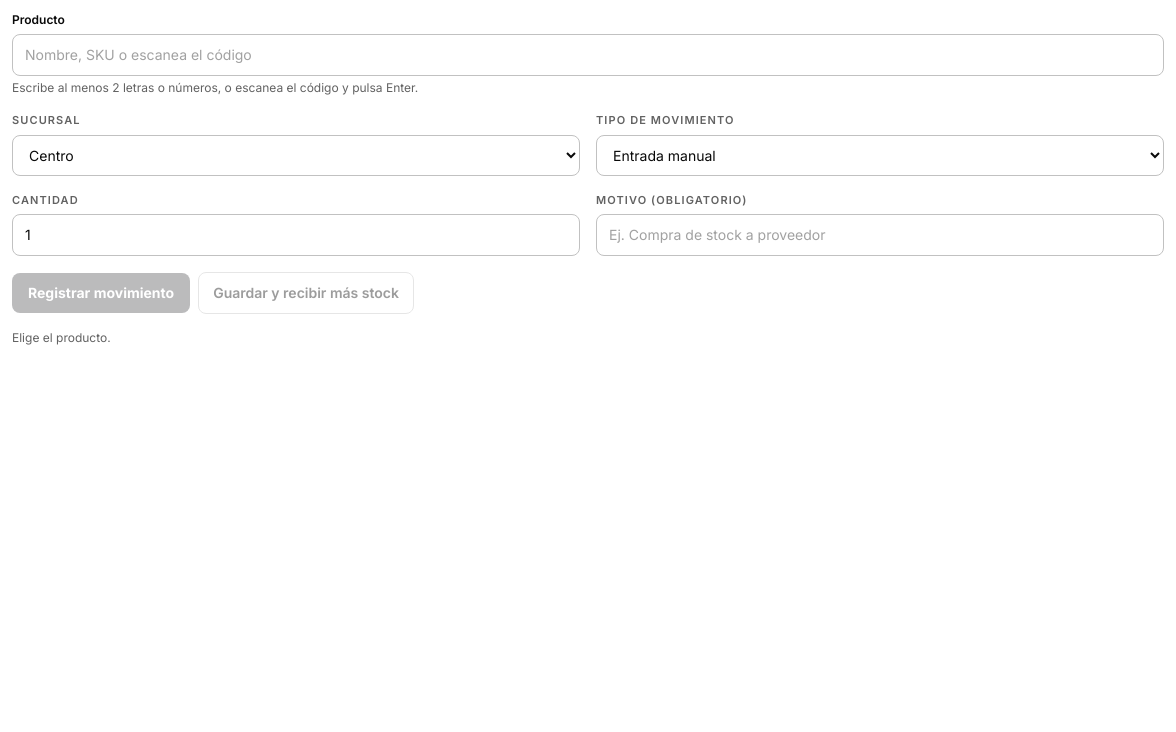
Test case: registers the movement for the picked product and branch
In the dropdown labelled "Producto": x=588, y=55 x1=12 y1=34 x2=1164 y2=76, type "BD-3"
Press Enter in the dropdown labelled "Producto", box x1=12 y1=34 x2=1164 y2=76
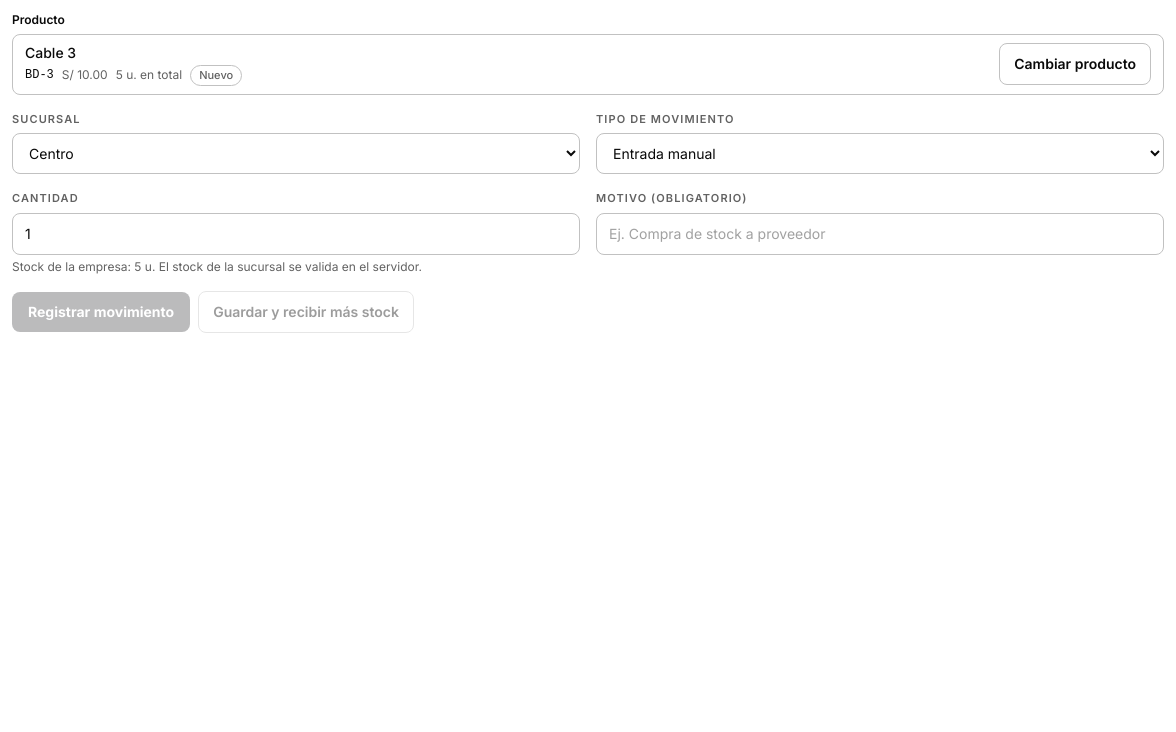
Select "Norte" in the dropdown labelled "Sucursal": x=296, y=154 x1=12 y1=133 x2=580 y2=174
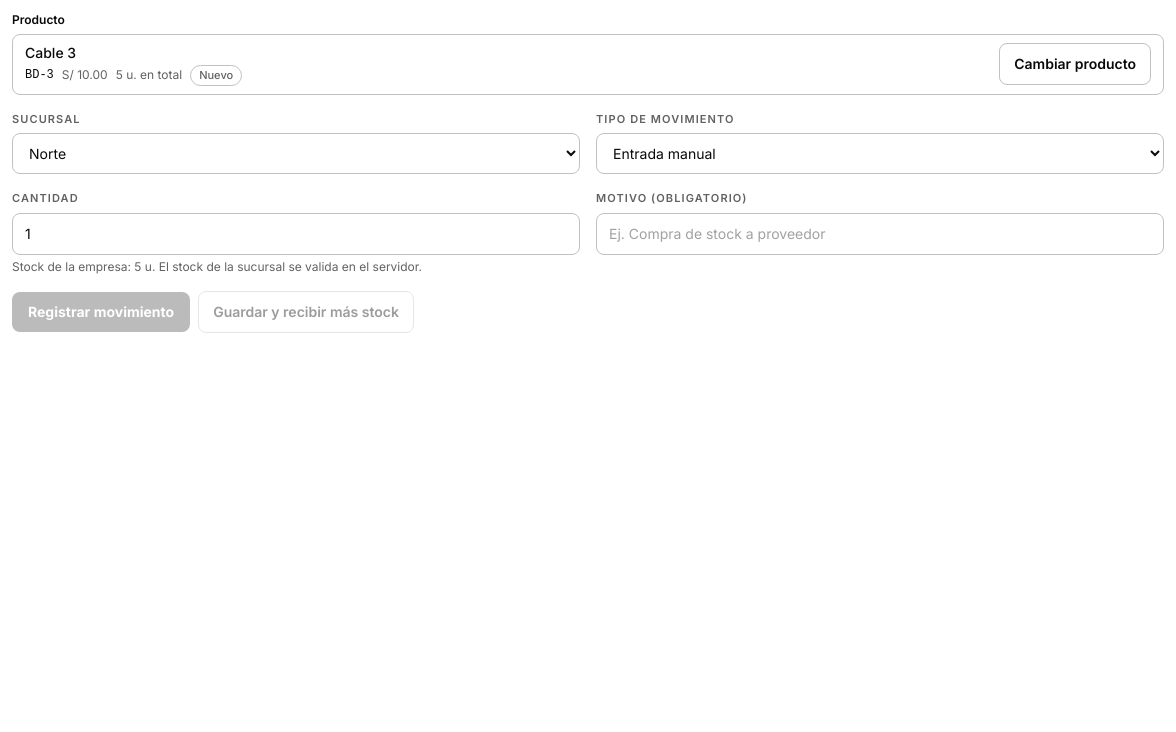
Select "Entrada por compra" in the dropdown labelled "Tipo de movimiento": x=880, y=154 x1=596 y1=133 x2=1164 y2=174
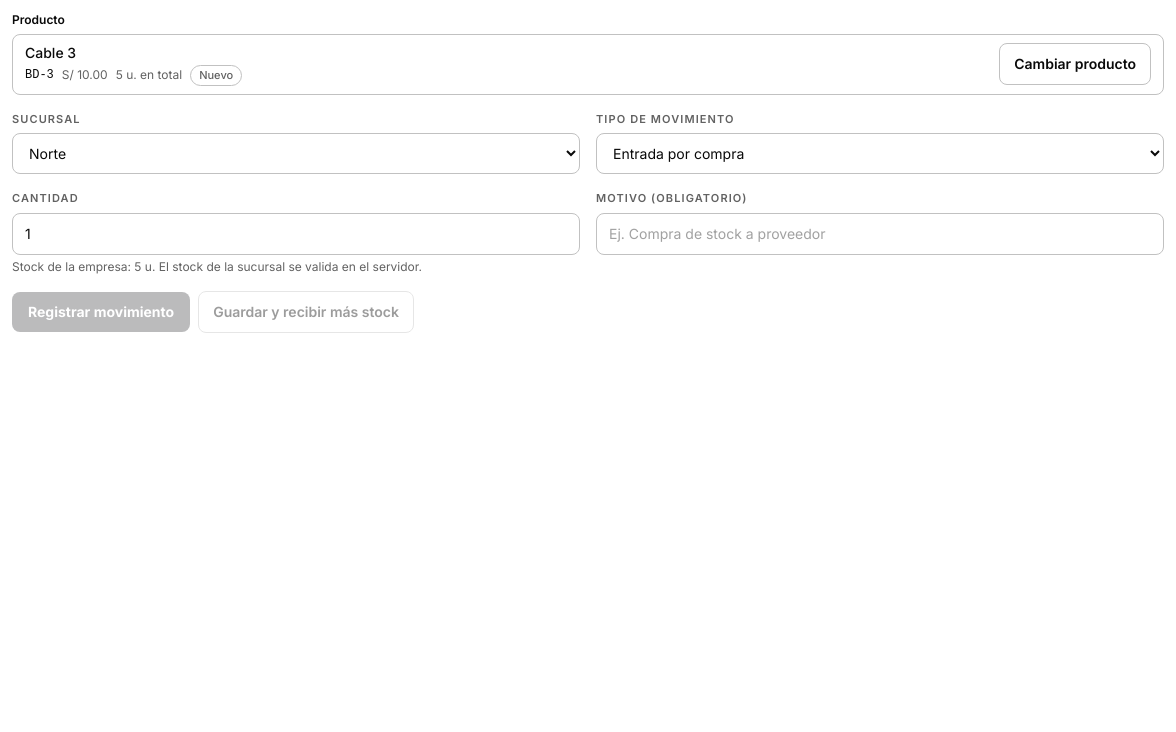
Replace the text in the number field labelled "Cantidad" with "3": x=296, y=234 x1=12 y1=213 x2=580 y2=255
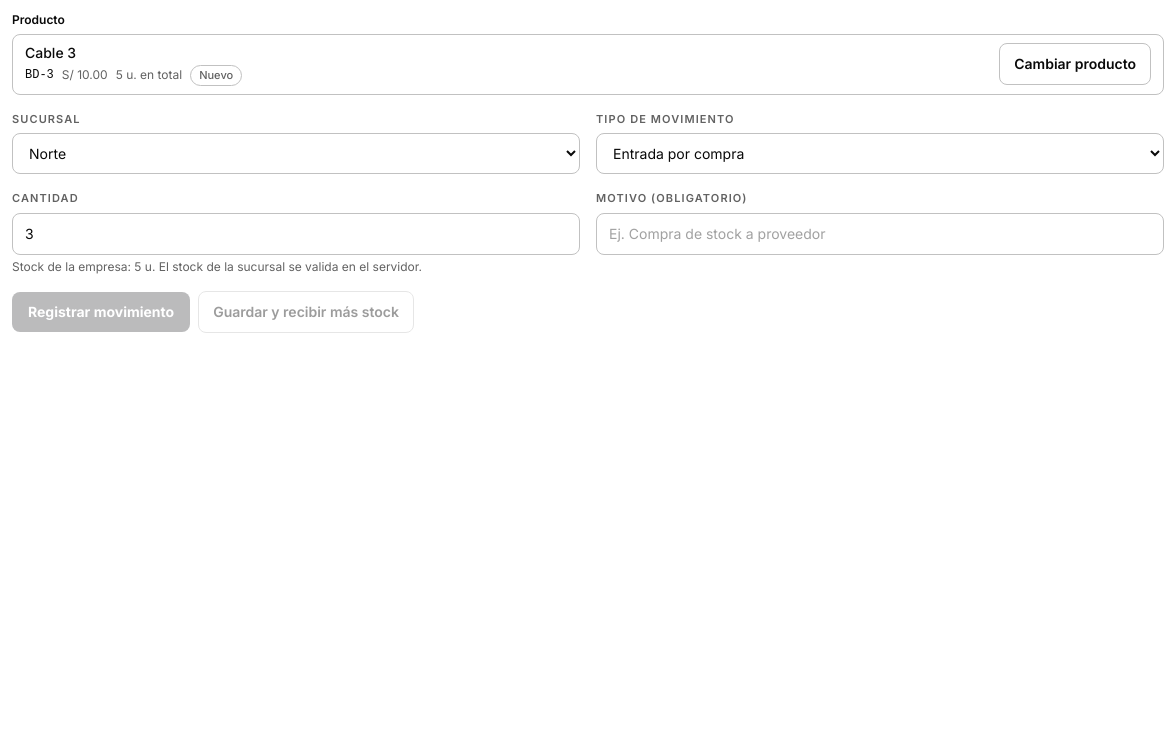
In the field labelled "Motivo (obligatorio)": x=880, y=234 x1=596 y1=213 x2=1164 y2=255, type "Factura F001-9"
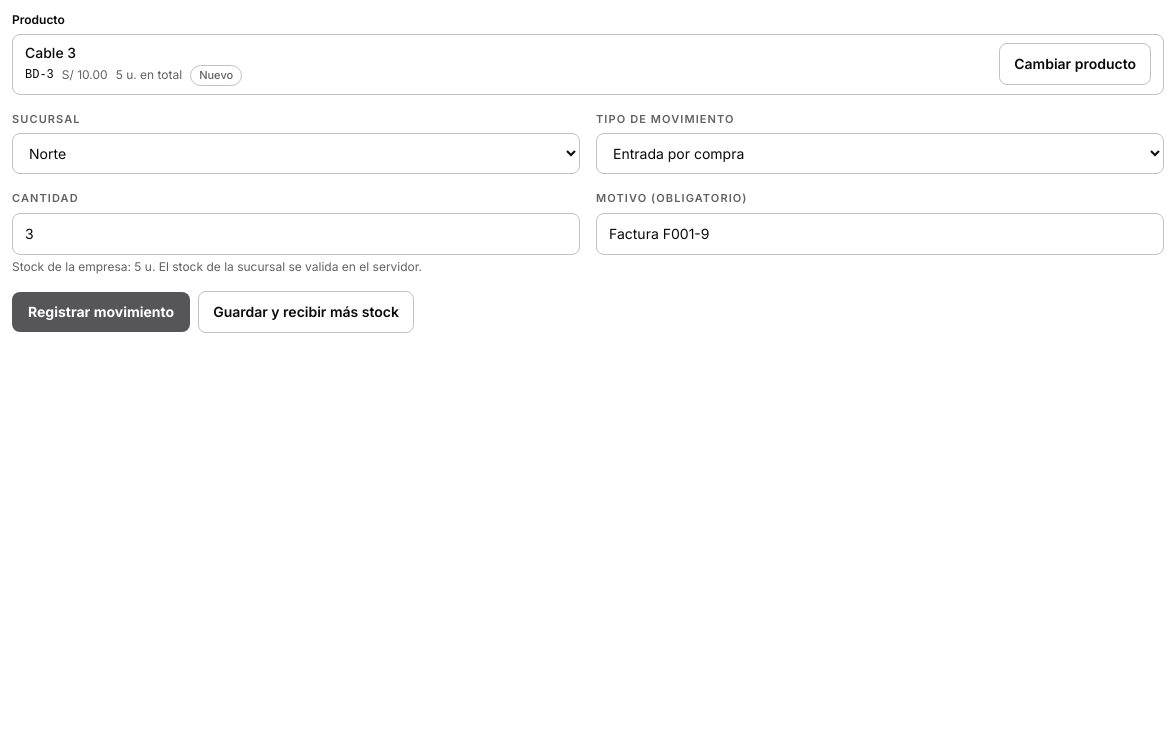
Click the button "Registrar movimiento": x=101, y=312 x1=12 y1=292 x2=190 y2=332
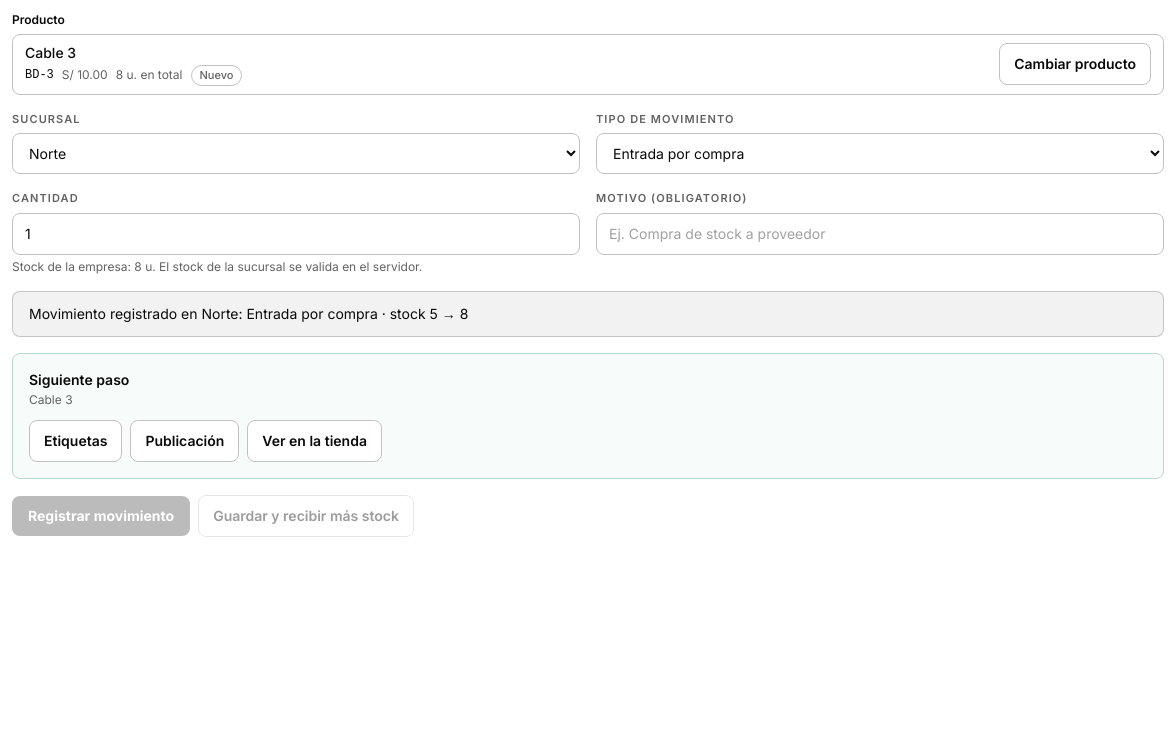
Expected: the text "stock 5 → 8" is shown, x1=29 y1=305 x2=468 y2=322
